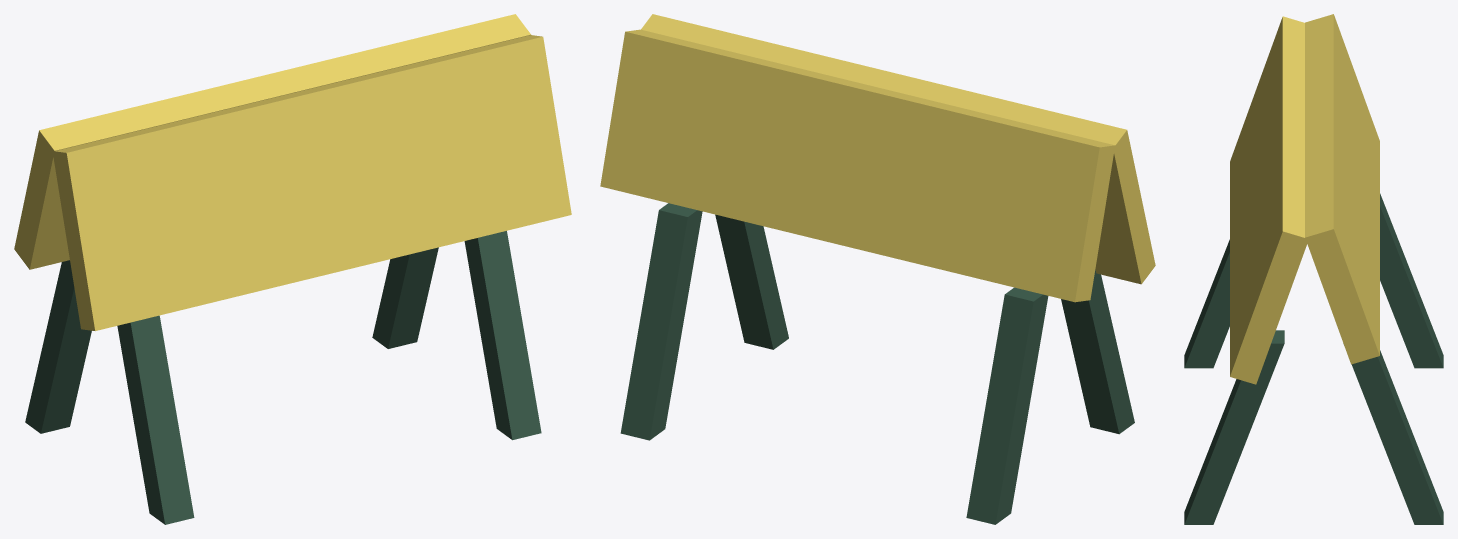
File: Greybox__Sign.fbx
3 views of the same model, side by side, from view 1: azimuth 30°, elevation 25°; view 2: azimuth 150°, elevation 25°; view 3: azimuth 270°, elevation 25° (orthographic). The views are drawn at different scales.
Visible parts, largest first — view 1: WarningSign; view 2: WarningSign; view 3: WarningSign.
Part boxes in pixels (<box>): WarningSign: <box>14,14,571,524</box>; WarningSign: <box>600,14,1155,524</box>; WarningSign: <box>1184,14,1443,524</box>.
Bounding box in the file's own units: 159 × 111 × 81.17.
